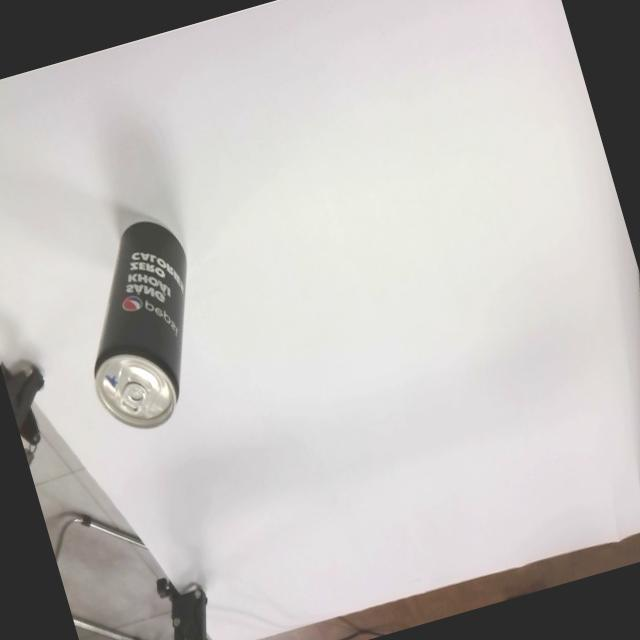debris: (54, 211, 230, 442)
